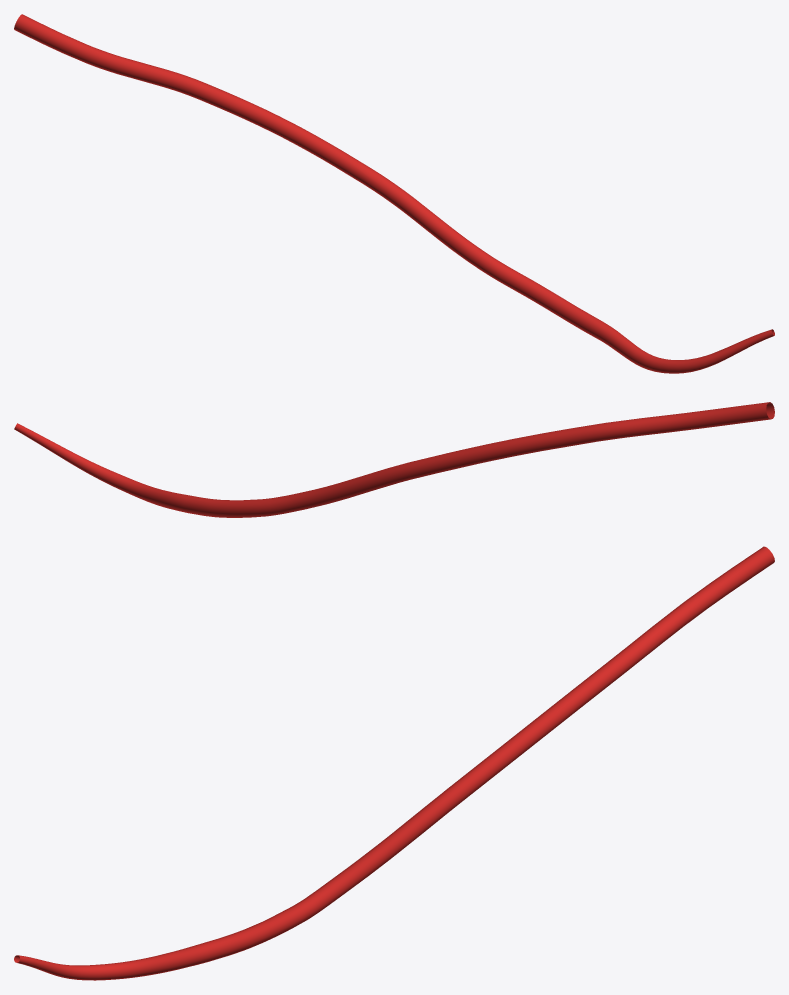
File: circulatorio-submental-vein-r.glb
3 views of the same model, one above another, from view 1: azimuth 30°, elevation 25°; view 2: azimuth 210°, elevation 25°; view 3: azimuth 270°, elevation 25° (orthographic). The views are drawn at different scales.
Parts seen in each view (by area): view 1: Submental vein.r; view 2: Submental vein.r; view 3: Submental vein.r.
Boxes of the visible parts, bbox=[...] form: Submental vein.r: bbox=[14, 14, 774, 373]; Submental vein.r: bbox=[14, 402, 774, 517]; Submental vein.r: bbox=[14, 546, 774, 980].
Bounding box in the file's own units: 0.0276 × 0.014 × 0.0388.
